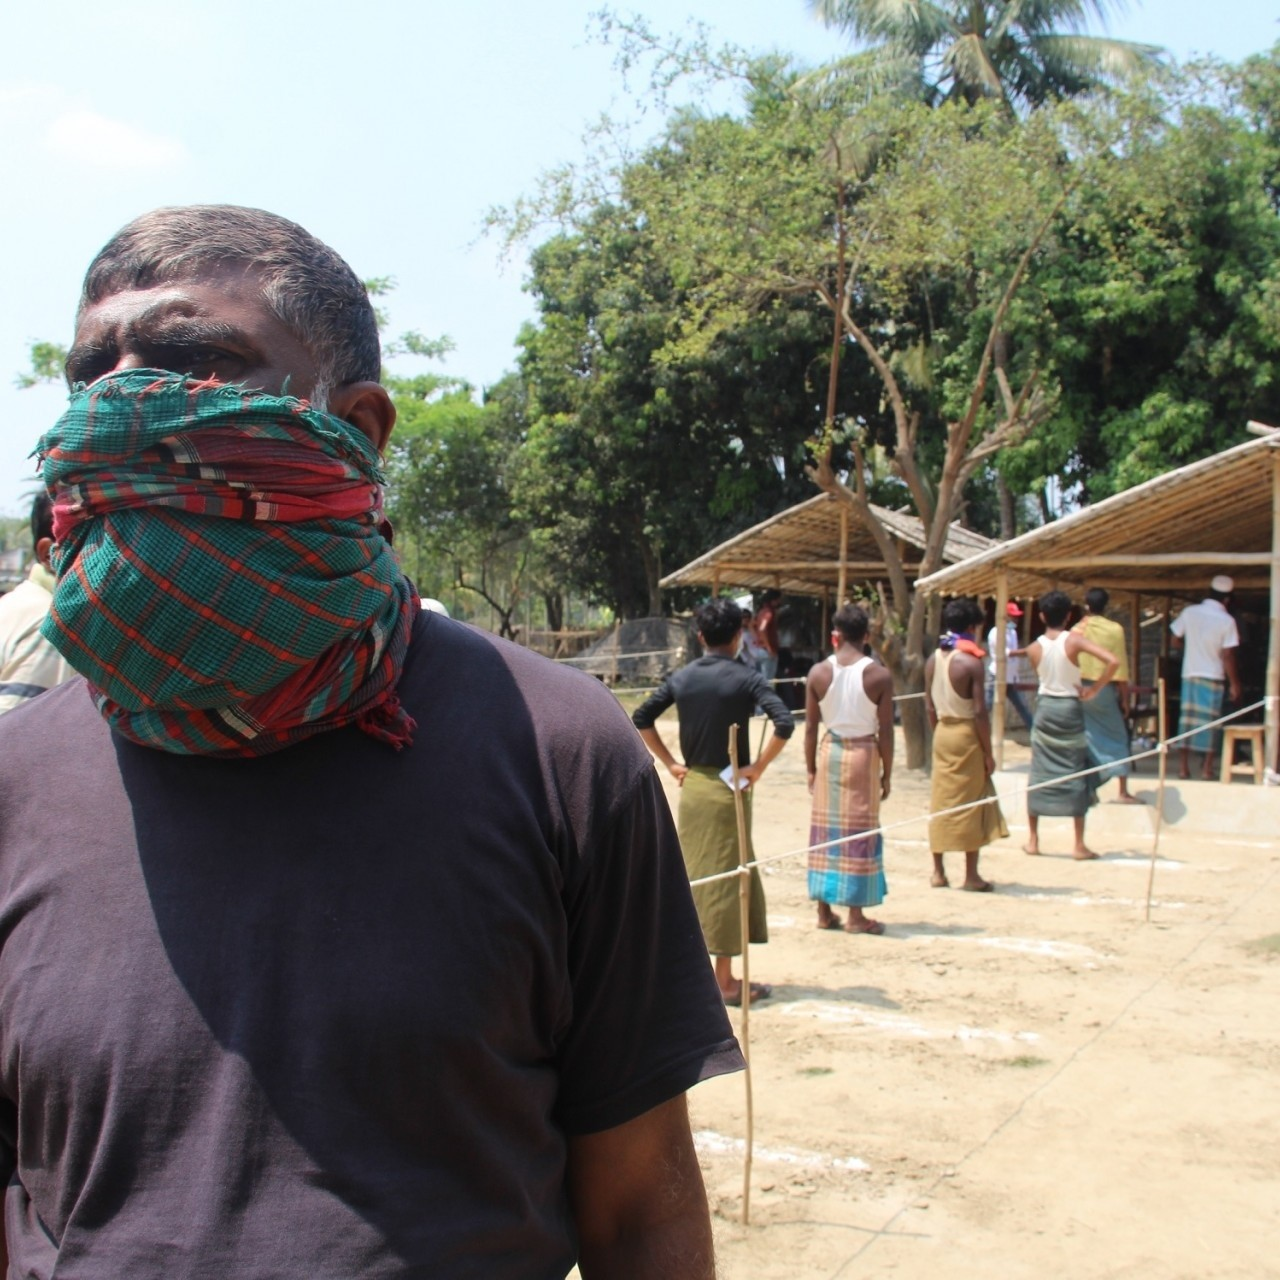face_with_mask: (69, 202, 396, 665)
